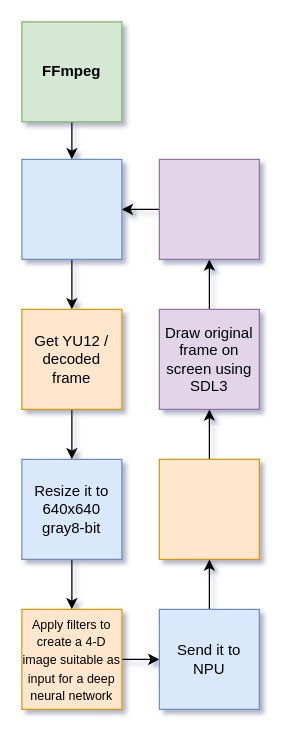
Some shapes in this 289 by 739 pixel diagram are drawn without their labels. The shapes that lost their labels are listed below. From the top down, each one's centre as x and y in pixels, then its label:
(x=71, y=208): Open RTSP device address
(x=208, y=208): Draw the box for each detected object using SDL3
(x=208, y=508): Get the detected objects
